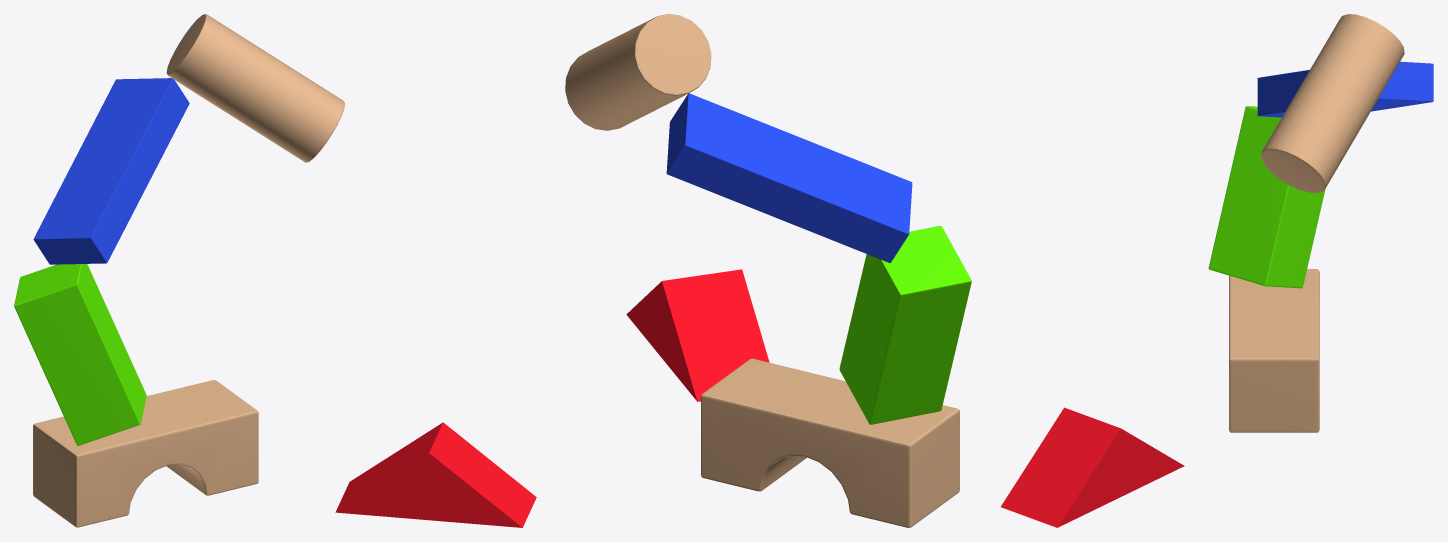
File: blook_1.fbx
The picture shows the model from 3 angles, left to right: view 1: azimuth 30°, elevation 25°; view 2: azimuth 150°, elevation 25°; view 3: azimuth 270°, elevation 25°; orthographic projection. The views are drawn at different scales.
Visible parts, largest first — view 1: polySurface2; view 2: polySurface2; view 3: polySurface2.
Part boxes in pixels (left/top/right/bottom): polySurface2: left=14, top=14, right=536, bottom=527; polySurface2: left=565, top=14, right=971, bottom=527; polySurface2: left=1001, top=14, right=1433, bottom=527.
Bounding box in the file's own units: 7.88 × 7.61 × 7.05.
1 material, 1 textured.
